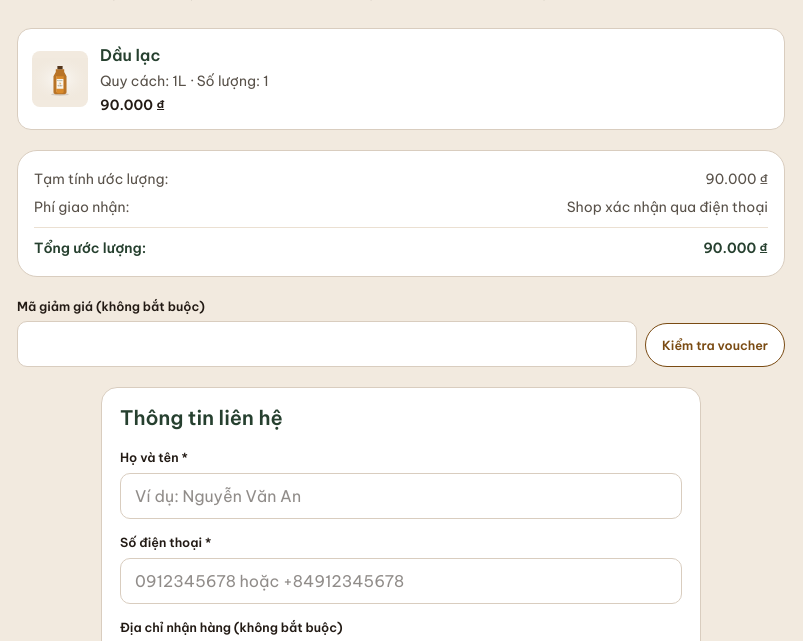
Test: removes a stale voucher preview after the backend rejects the voucher and keeps the cart
The image size is (803, 641).
Type "save5" into the field labelled "Mã giảm giá (không bắt buộc)".
click(327, 344); type("save5")  # box [17,321,637,367]
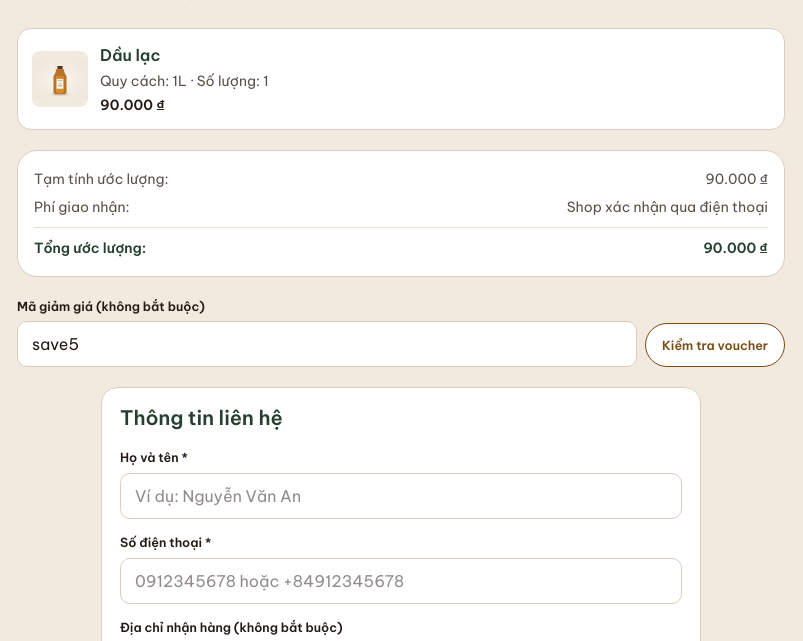
Click the button "Kiểm tra voucher".
click(715, 345)  # box [645,323,785,367]
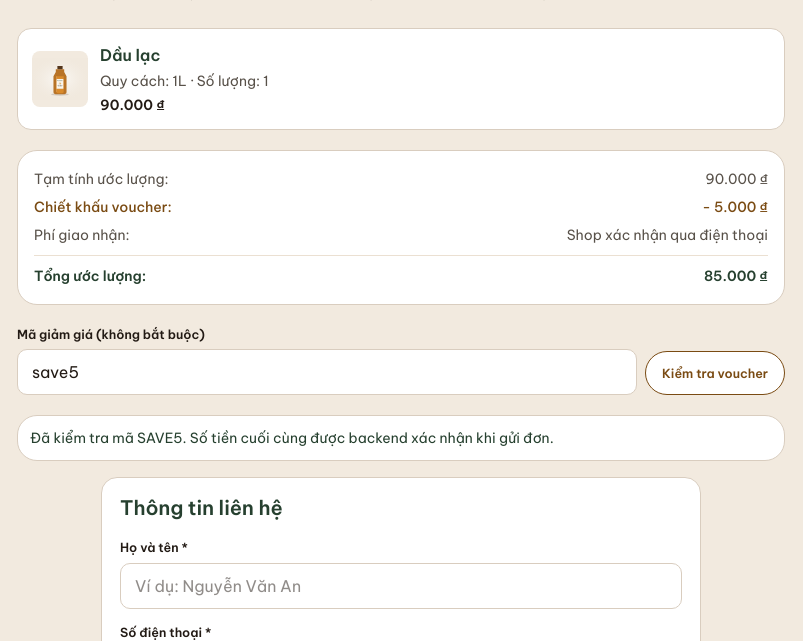
Expected: the text "Đã kiểm tra mã SAVE5. Số tiền cuối cùng được backend xác nhận khi gửi đơn." is shown, [17,415,785,461]
Expected: the text "Chiết khấu voucher:" is shown, [34,194,172,218]
Type "Nguyen Van A" into the field with placeholder "Ví dụ: Nguyễn Văn An".
click(401, 586); type("Nguyen Van A")  # box [120,563,682,609]
(page scrolled)
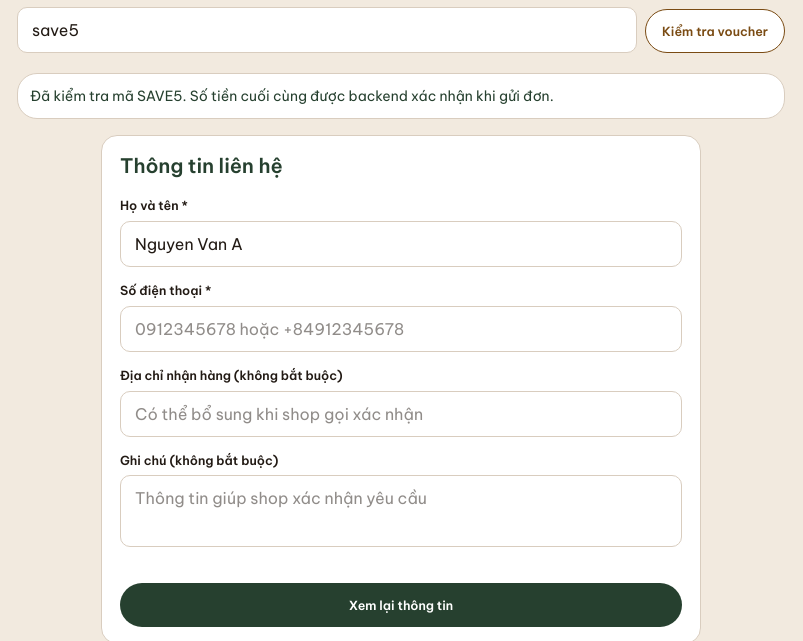
Type "0912345678" into the field with placeholder "0912345678 hoặc +84912345678".
click(401, 329); type("0912345678")  # box [120,306,682,352]
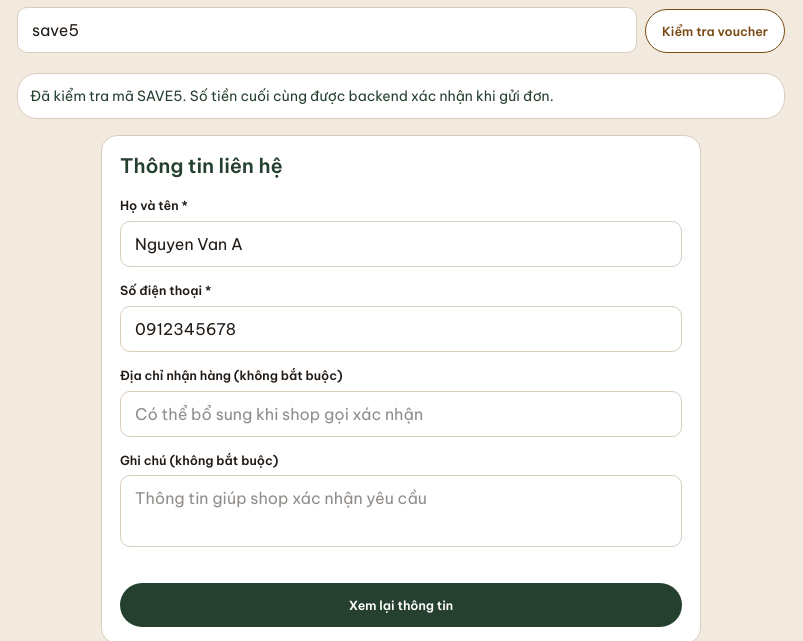
Click the button "Xem lại thông tin".
click(401, 605)  # box [120,583,682,627]
(page scrolled)
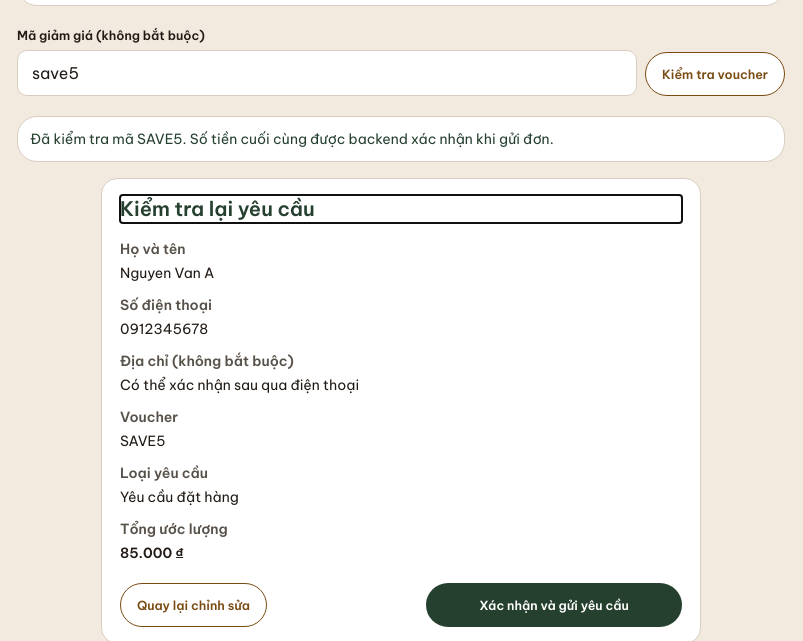
Click the button "Xác nhận và gửi yêu cầu".
click(554, 605)  # box [426,583,682,627]
(page scrolled)
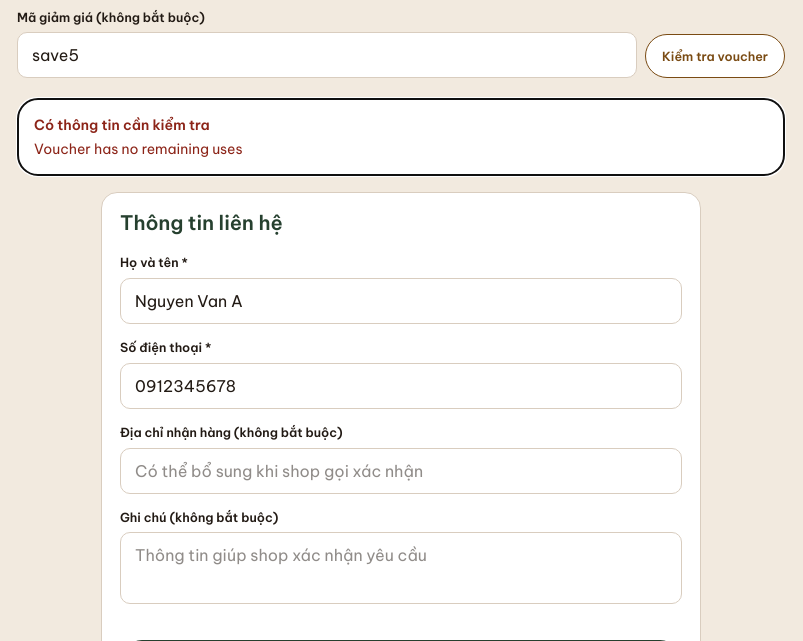
Expected: the text "Voucher has no remaining uses" is shown, [34,140,243,158]
